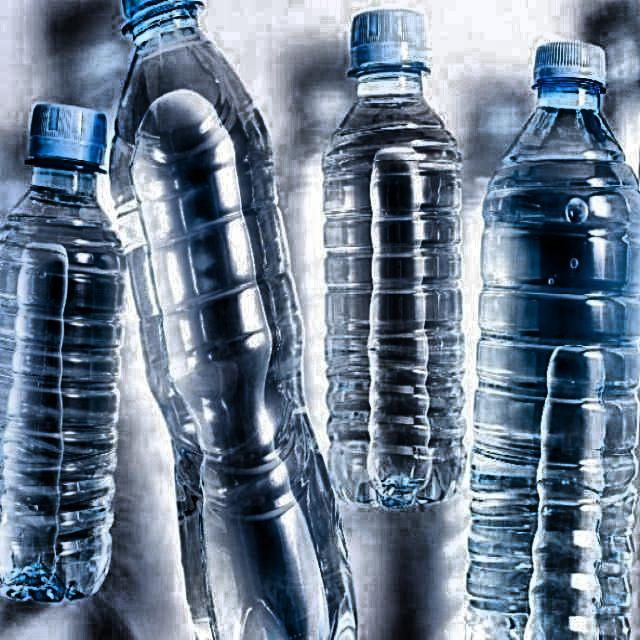plastic bottle: (110, 0, 356, 640), (468, 42, 640, 640), (323, 9, 465, 508), (0, 104, 125, 602)
